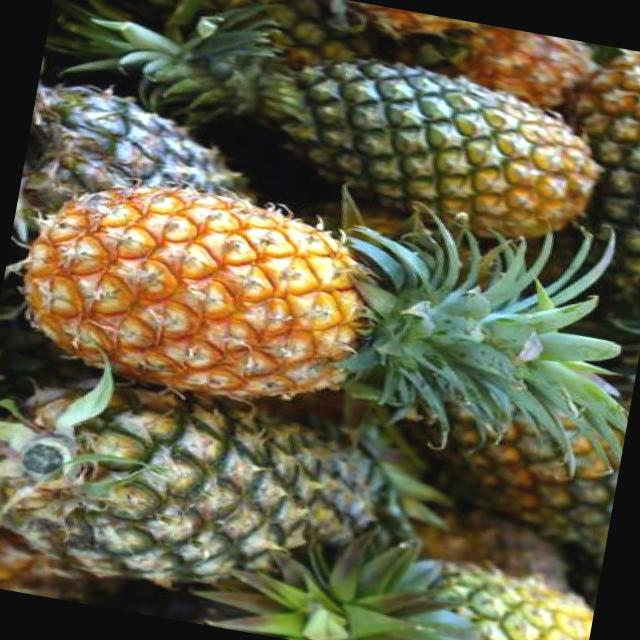pineapple: (3, 156, 469, 425), (0, 359, 401, 617), (184, 32, 606, 254)
